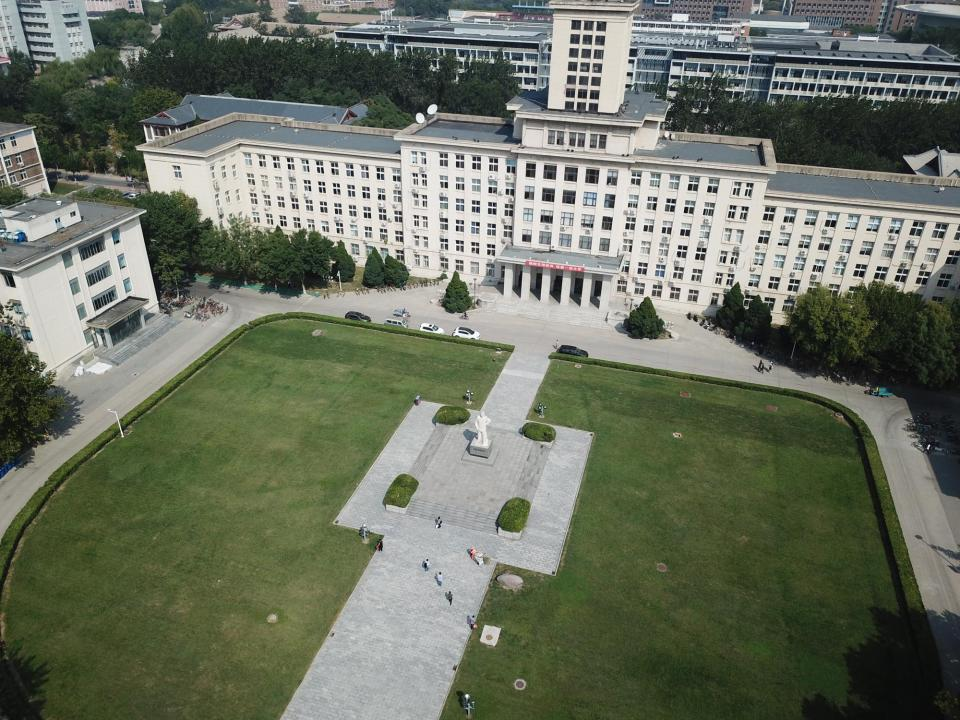car: (114, 191, 132, 200), (127, 193, 143, 201)
van: (452, 327, 480, 342), (558, 345, 588, 359), (418, 322, 444, 336), (384, 315, 408, 330), (345, 312, 371, 324)
